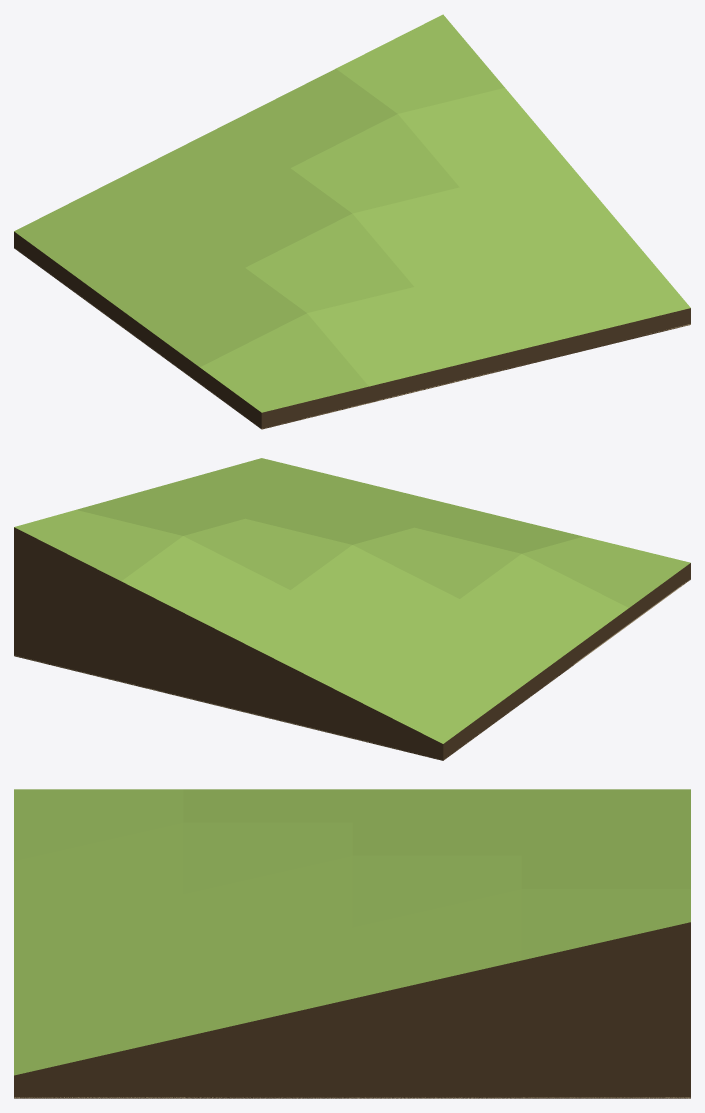
The model's file is terrain_tile_slope_corner_out.glb.
3 views of the same model, one above another, from view 1: azimuth 30°, elevation 25°; view 2: azimuth 150°, elevation 25°; view 3: azimuth 270°, elevation 25° (orthographic). The views are drawn at different scales.
Visible parts, largest first — view 1: terrain_tile_slope_corner_out; view 2: terrain_tile_slope_corner_out; view 3: terrain_tile_slope_corner_out.
Part boxes in pixels (x1,y1,x2,y2): terrain_tile_slope_corner_out: [14, 14, 690, 429]; terrain_tile_slope_corner_out: [14, 458, 690, 760]; terrain_tile_slope_corner_out: [14, 789, 690, 1098].
Bounding box in the file's own units: 8 × 2.3 × 8.
